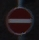No entry: (6, 5, 34, 35)
